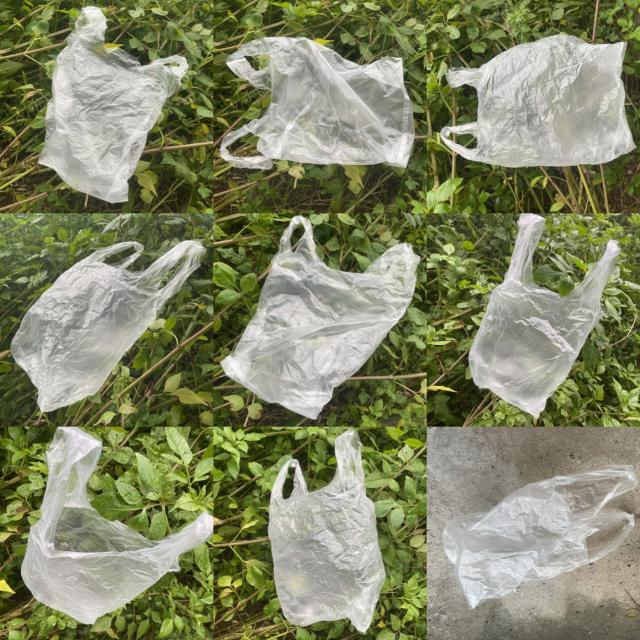Single-layer Plastic: (221, 216, 420, 418), (21, 428, 212, 623), (11, 240, 206, 411), (469, 214, 620, 418), (39, 6, 189, 202), (442, 465, 638, 609), (440, 34, 635, 168), (220, 38, 414, 169), (269, 430, 385, 632)
